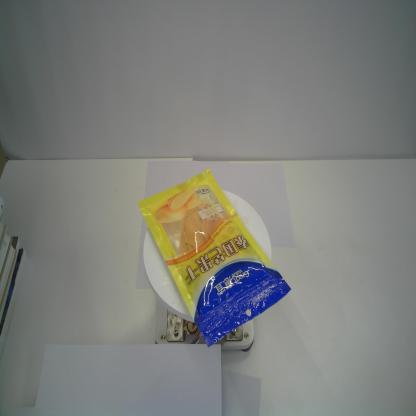Dried Fruit: (138, 167, 291, 348)
